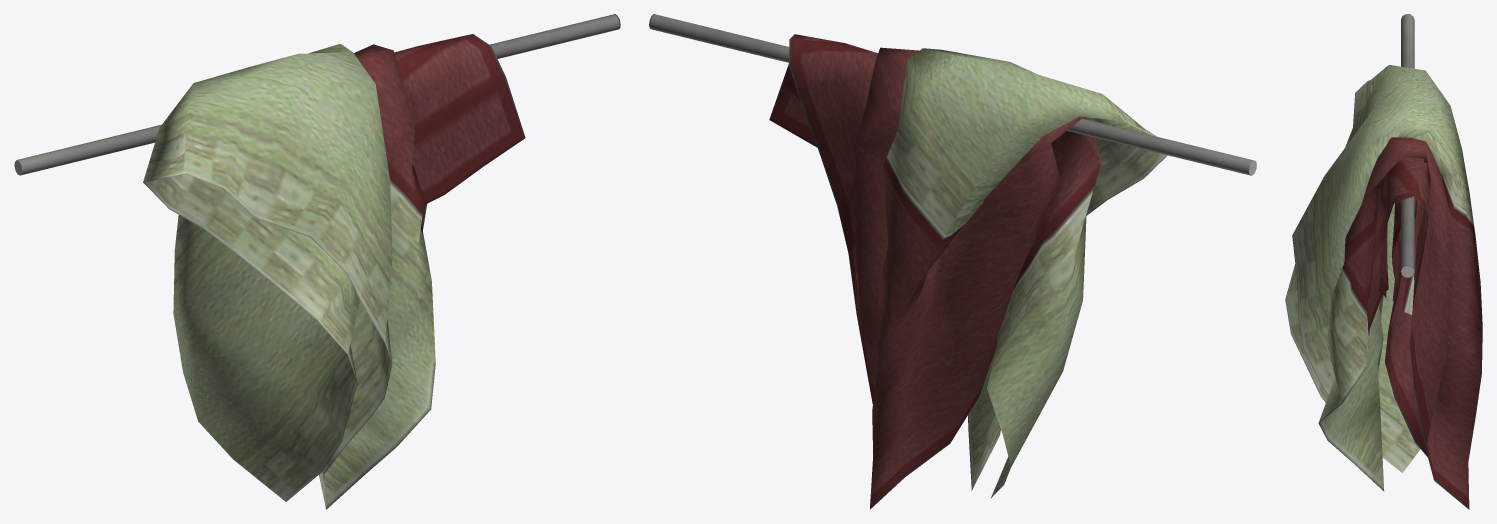
File: Towel.fbx
3 renders of one model, left to right at view 1: azimuth 30°, elevation 25°; view 2: azimuth 150°, elevation 25°; view 3: azimuth 270°, elevation 25°, orthographic. The views are drawn at different scales.
Parts seen in each view (by area): view 1: Towel; view 2: Towel; view 3: Towel.
Boxes of the visible parts, box(x1,y1,x2,y2) form: Towel: box(14, 14, 620, 509); Towel: box(649, 14, 1256, 509); Towel: box(1285, 14, 1482, 509).
Bounding box in the file's own units: 0.538 × 0.3836 × 0.1785.
